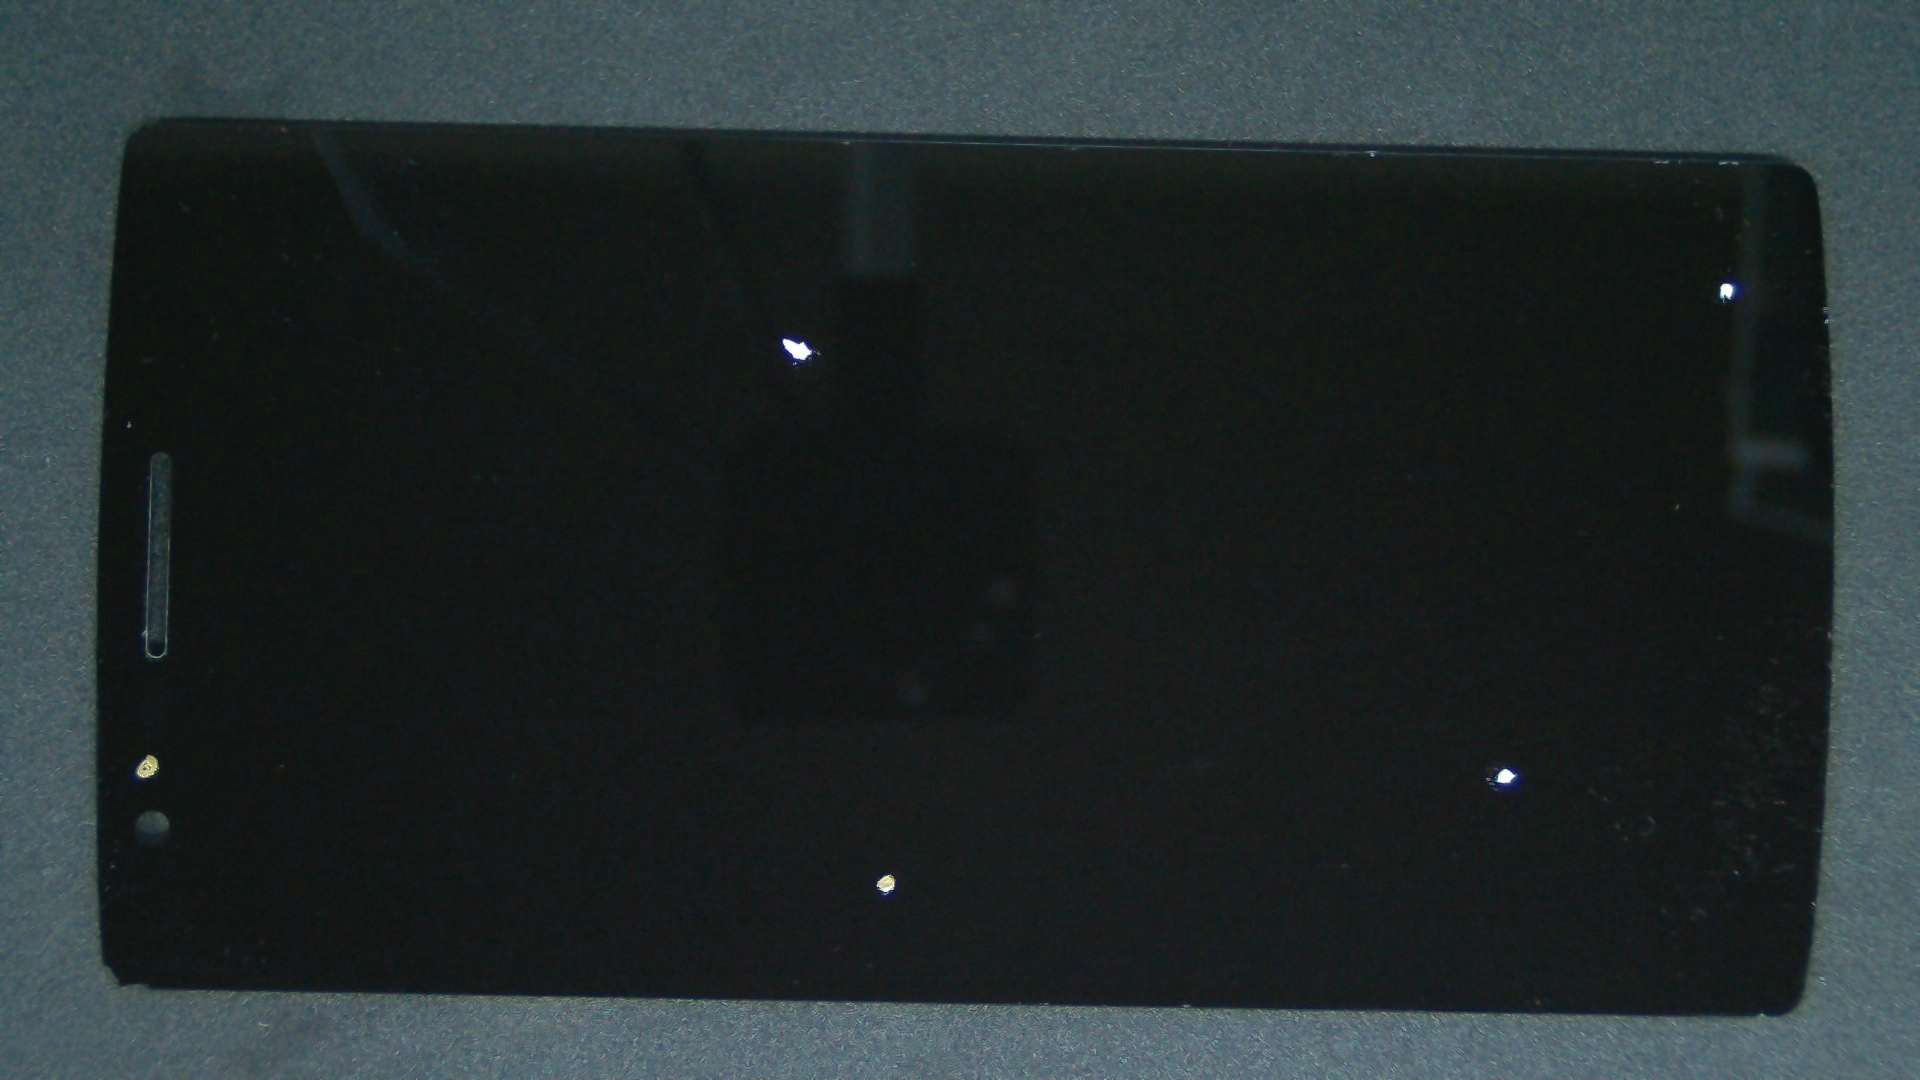oil: (752, 382, 1920, 1080), (444, 435, 1331, 1080), (862, 138, 1920, 425), (392, 167, 1174, 506), (73, 376, 219, 1080)
